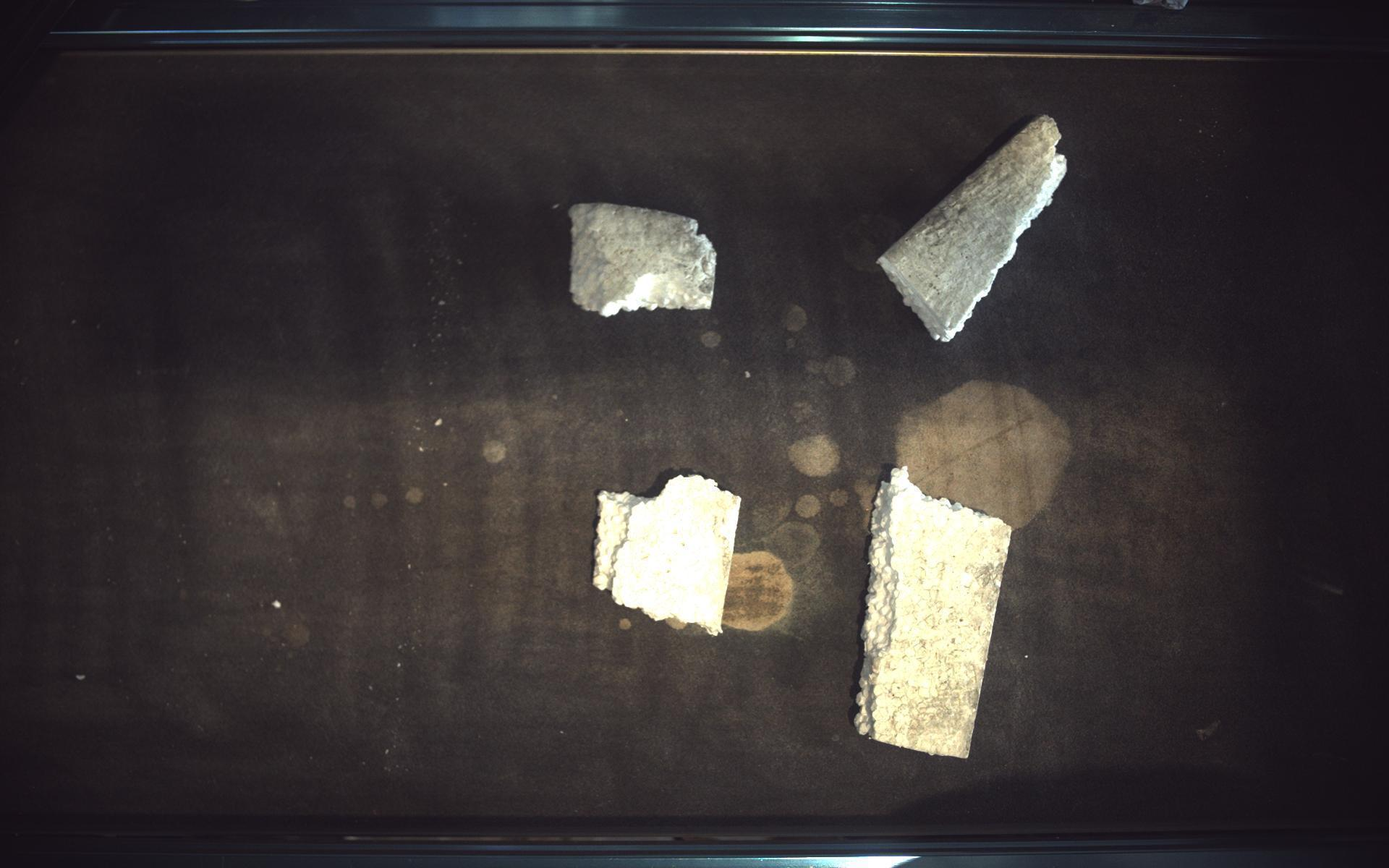foam: (857, 467, 1014, 760), (879, 115, 1069, 341), (595, 475, 742, 636), (570, 203, 718, 316)
